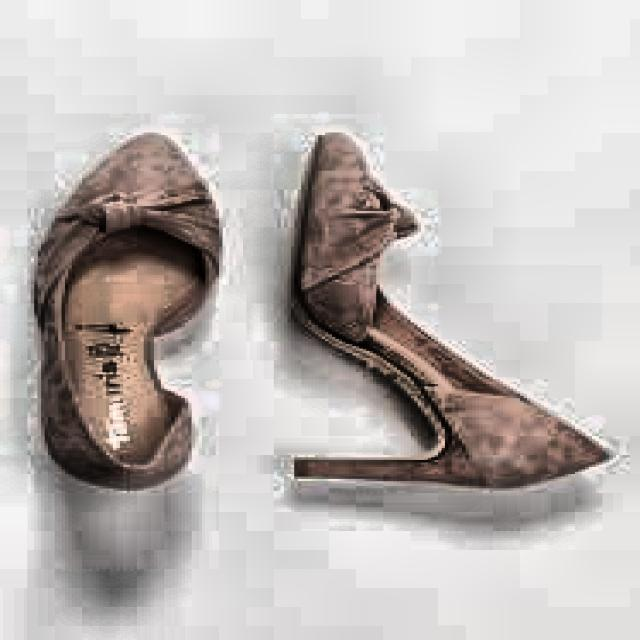shoes: (32, 128, 620, 501)
